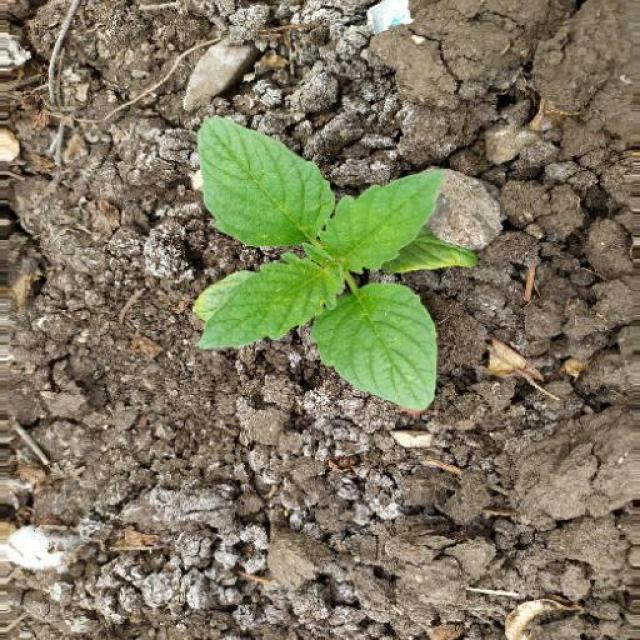crop: (171, 104, 484, 454)
